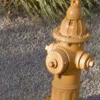Hydrant: (38, 2, 100, 100)
